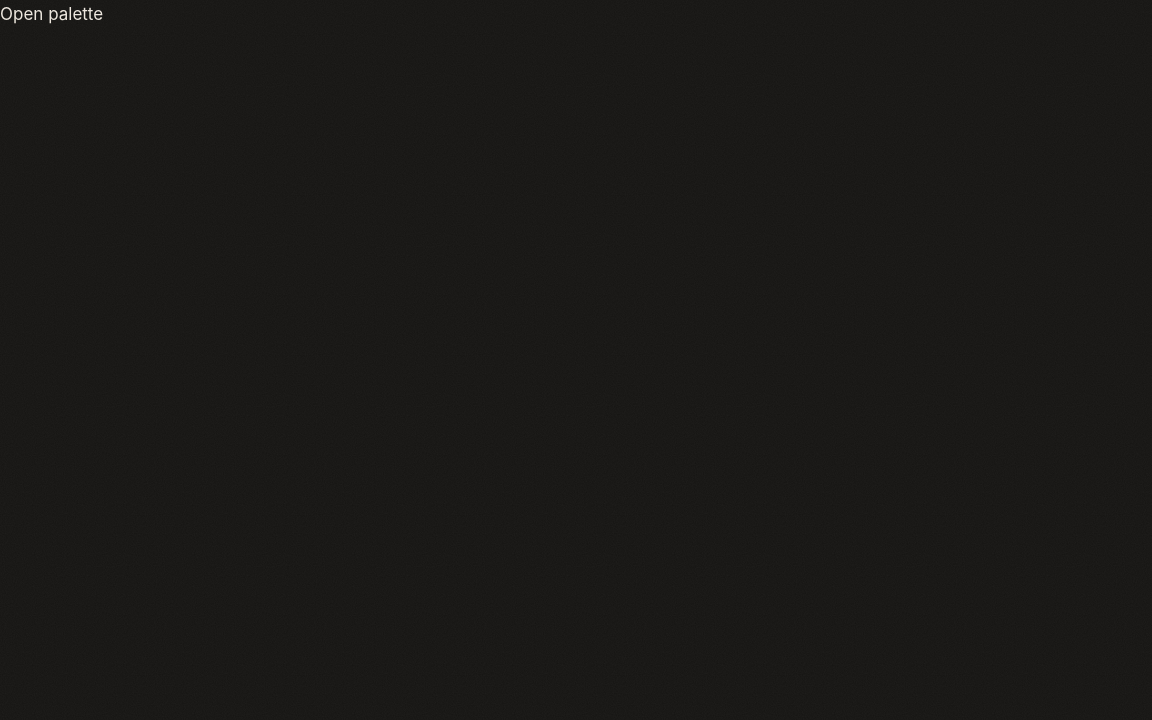
Test case: Command palette › searches projects by technology and opens the result with Enter
Later steps or results of the test are not shown.
Type keys "{Control>}k{/Control}"
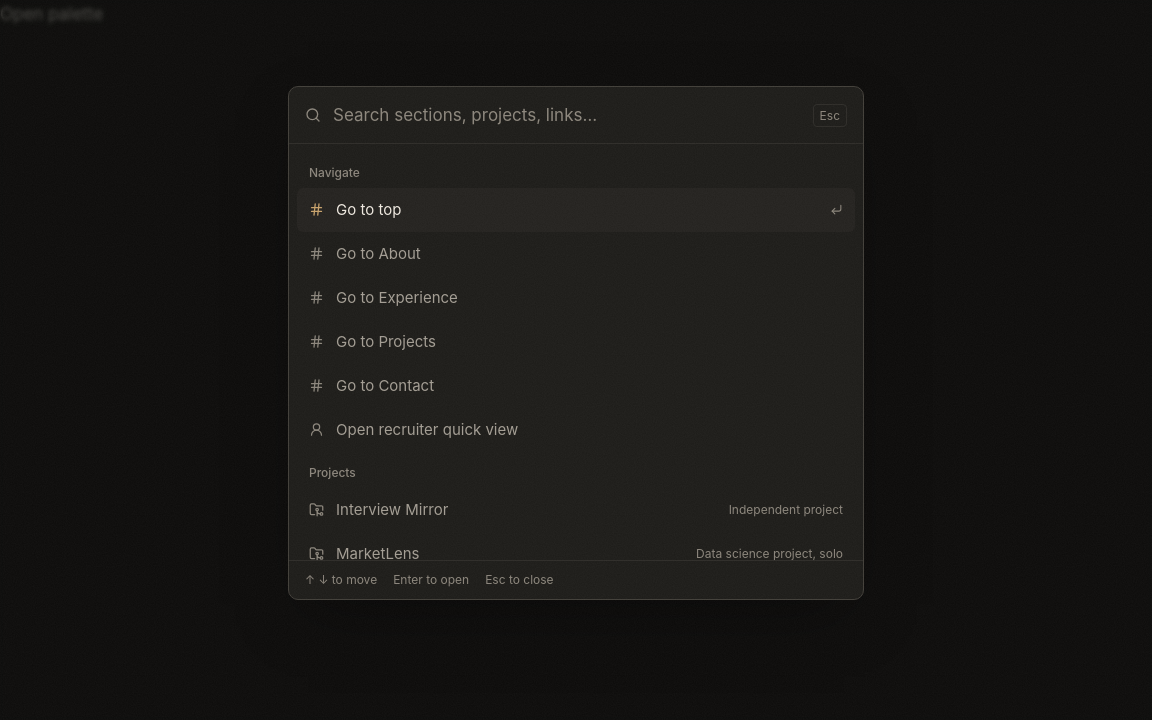
In the dropdown: (567, 115) [333, 87, 801, 143], type "postgresql"
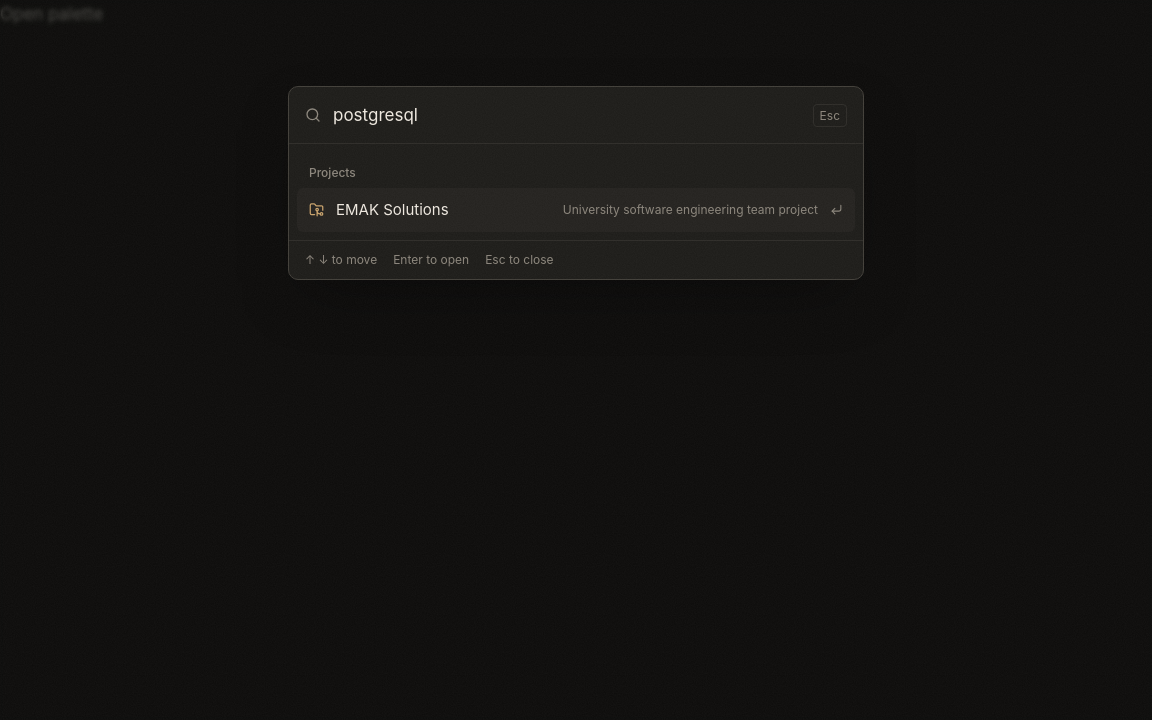
Expected: the number of options is 1, [297, 188, 855, 232]
Expected: the option shows "EMAK Solutions", [297, 188, 855, 232]
